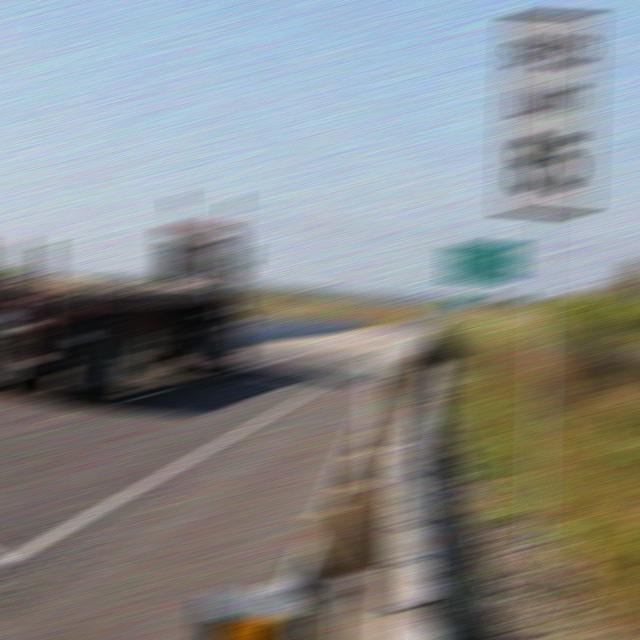speedLimit85: (492, 16, 604, 212)
